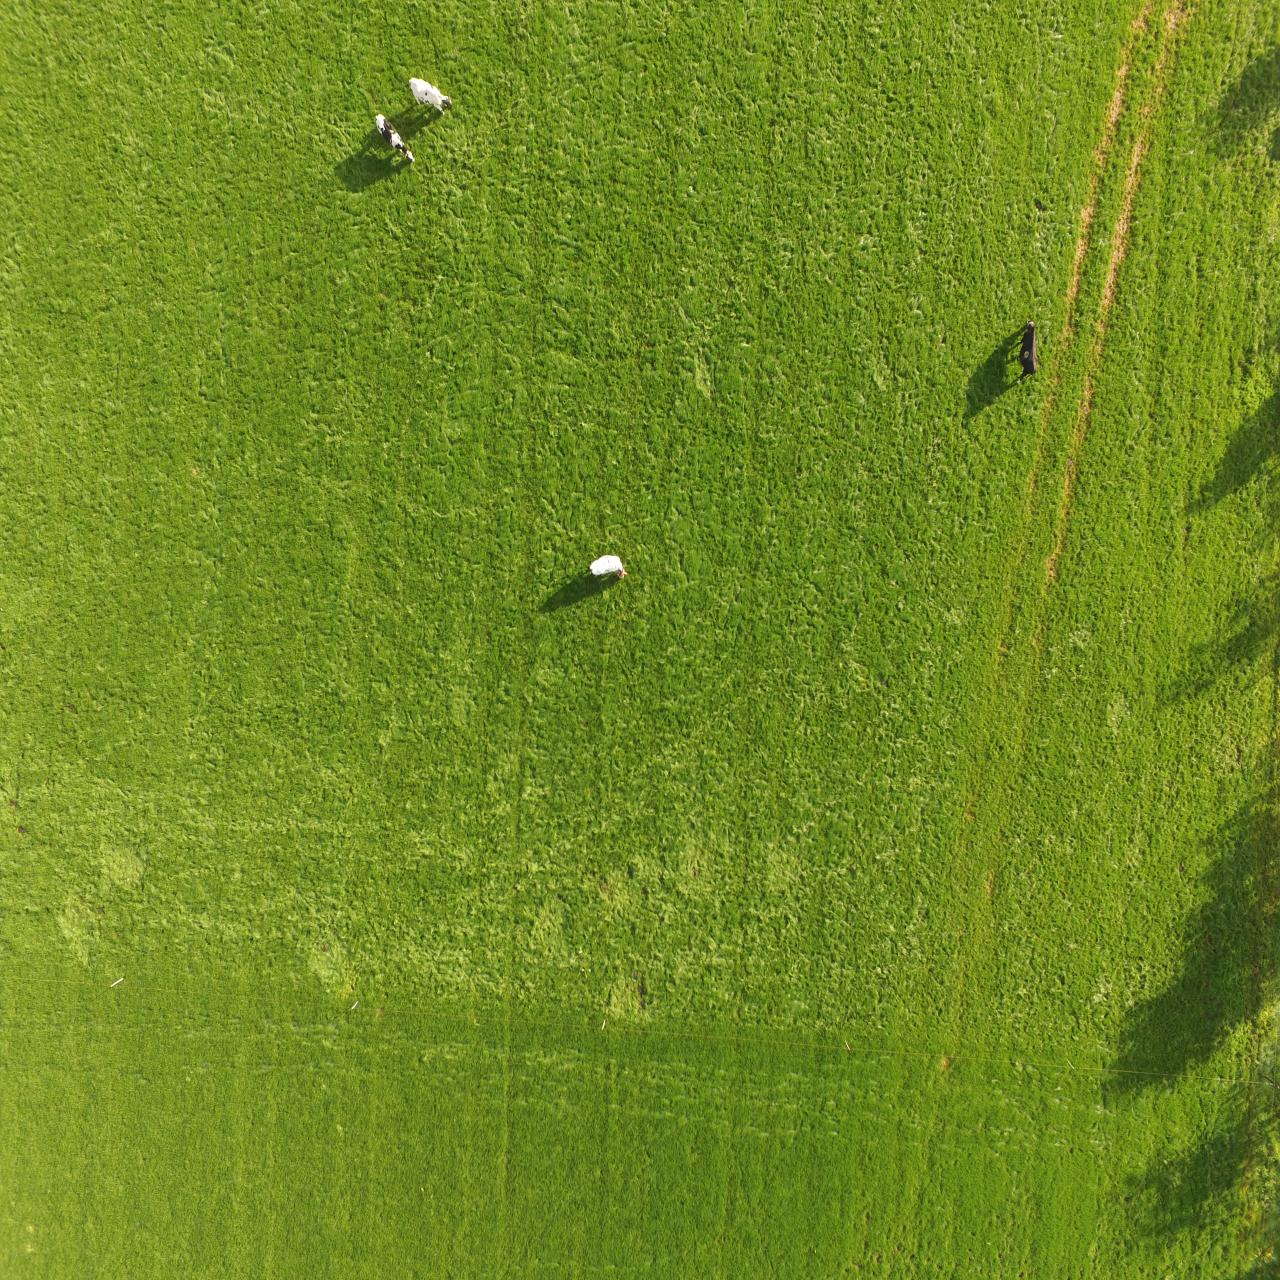cow: (374, 113, 415, 163), (408, 76, 454, 121), (1013, 319, 1039, 383), (587, 552, 628, 581)
